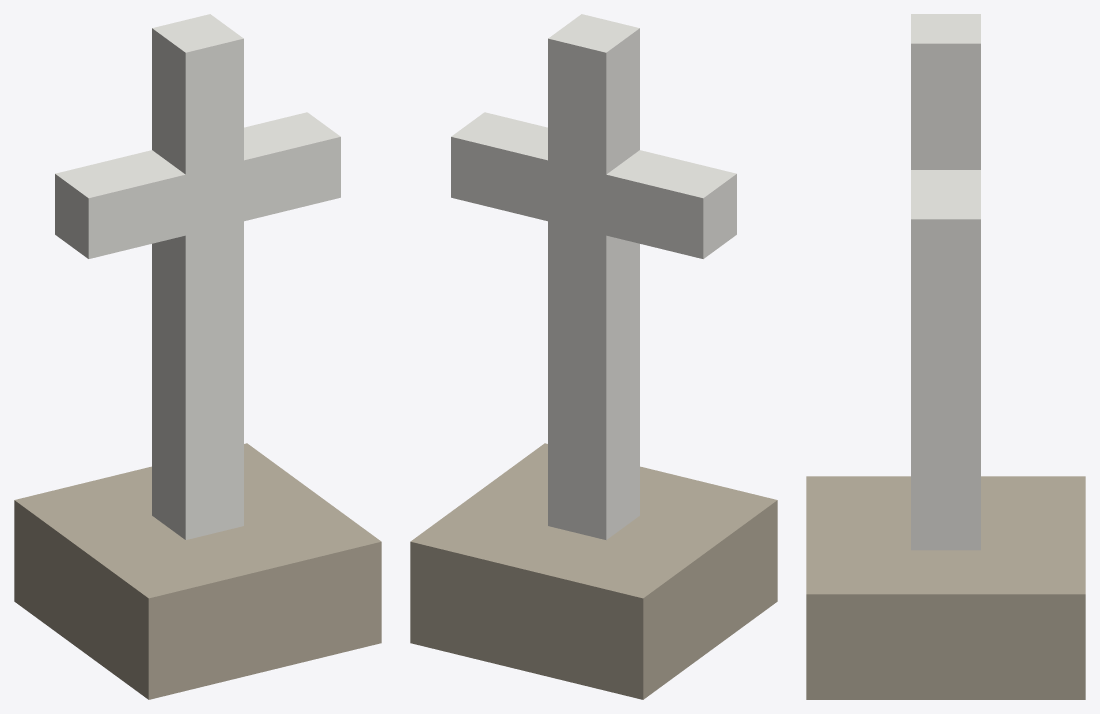
File: altovista_cross.glb
3 views of the same model, side by side, from view 1: azimuth 30°, elevation 25°; view 2: azimuth 150°, elevation 25°; view 3: azimuth 270°, elevation 25° (orthographic). The views are drawn at different scales.
Visible parts, largest first — view 1: altovista_cross_lod0; view 2: altovista_cross_lod0; view 3: altovista_cross_lod0.
Boxes of the visible parts, bbox=[...] form: altovista_cross_lod0: bbox=[14, 14, 381, 699]; altovista_cross_lod0: bbox=[410, 14, 777, 699]; altovista_cross_lod0: bbox=[806, 14, 1085, 699].
Size of what is drawn, in the model's own units: 1.3 by 2.9 by 1.2.
